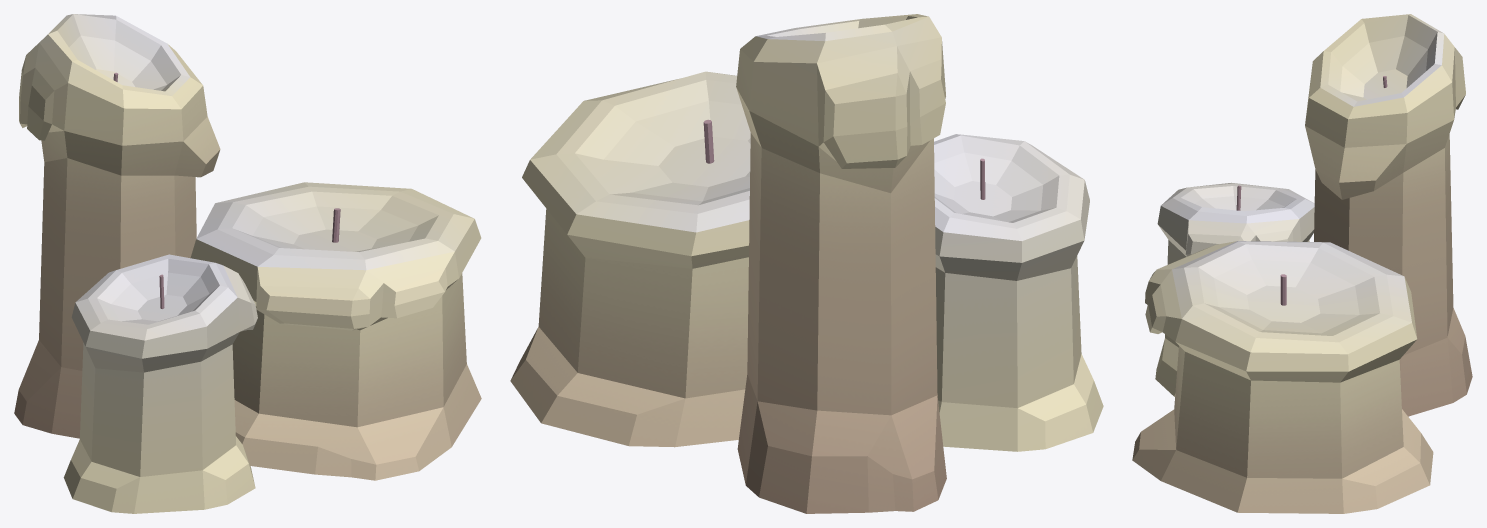
File: Candles.fbx
The picture shows the model from 3 angles, left to right: view 1: azimuth 30°, elevation 25°; view 2: azimuth 150°, elevation 25°; view 3: azimuth 270°, elevation 25°; orthographic projection. The views are drawn at different scales.
Parts seen in each view (by area): view 1: Candle.003, Candle.001, Candle.002; view 2: Candle.001, Candle.003, Candle.002; view 3: Candle.003, Candle.001, Candle.002.
Boxes of the visible parts, <box> form: Candle.003: <box>190,182,481,480</box>; Candle.001: <box>14,14,220,438</box>; Candle.002: <box>63,254,257,513</box>; Candle.001: <box>736,14,946,513</box>; Candle.003: <box>510,71,750,447</box>; Candle.002: <box>934,134,1103,451</box>; Candle.003: <box>1132,241,1433,513</box>; Candle.001: <box>1305,14,1472,416</box>; Candle.002: <box>1155,182,1314,396</box>.
Size of the model in its own units: 33.34 by 29.58 by 25.92.
